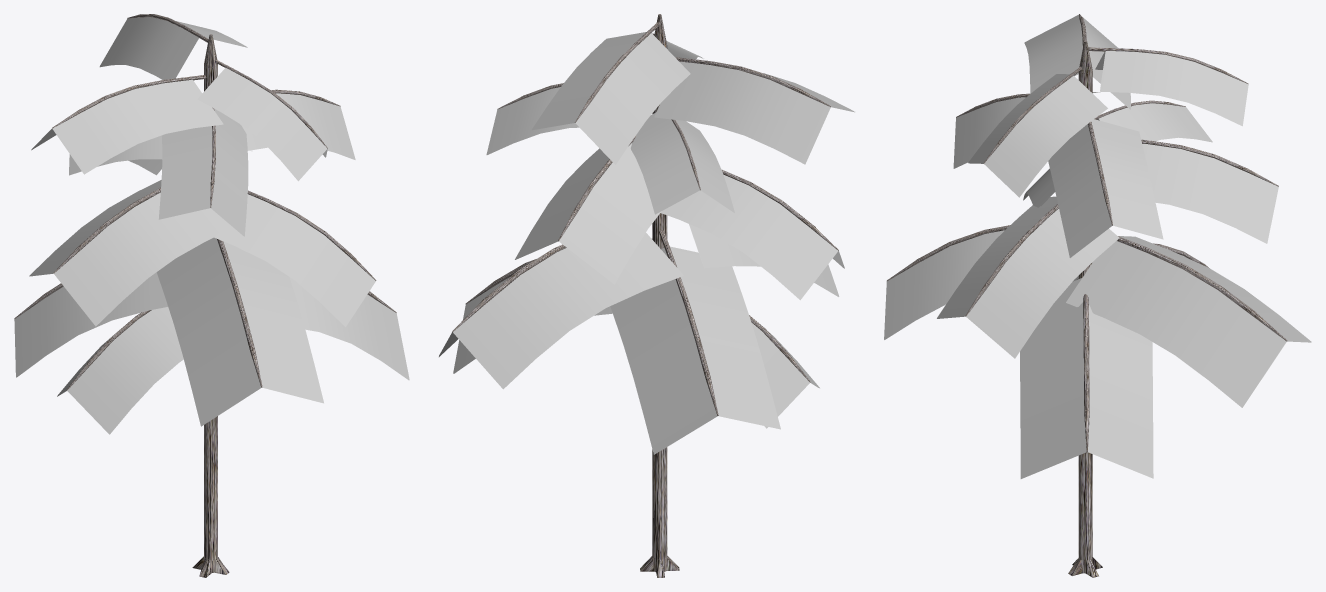
The model's file is Pine.fbx.
The picture shows the model from 3 angles, left to right: view 1: azimuth 30°, elevation 25°; view 2: azimuth 150°, elevation 25°; view 3: azimuth 270°, elevation 25°; orthographic projection. The views are drawn at different scales.
Parts seen in each view (by area): view 1: Pine; view 2: Pine; view 3: Pine.
Part boxes in pixels (x1,y1,x2,y2): Pine: (14, 14, 409, 577); Pine: (439, 14, 854, 577); Pine: (884, 14, 1311, 577).
Bounding box in the file's own units: 2817 × 4100 × 3006.
